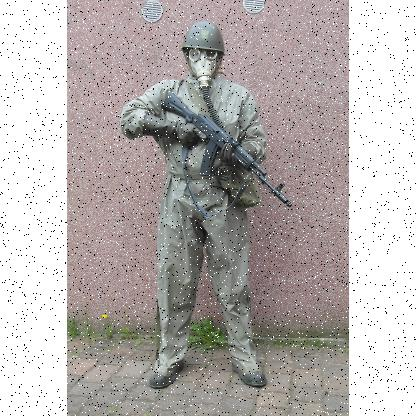gun: (153, 96, 295, 216)
